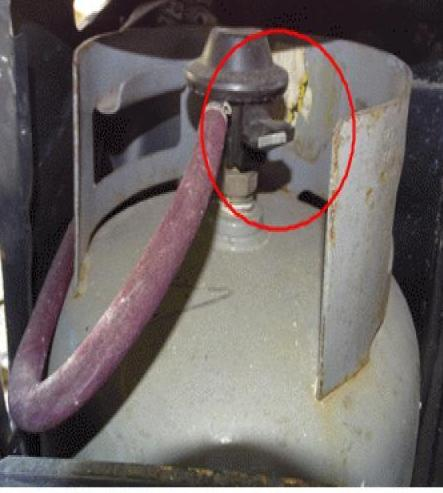cylinder: (1, 0, 443, 493)
